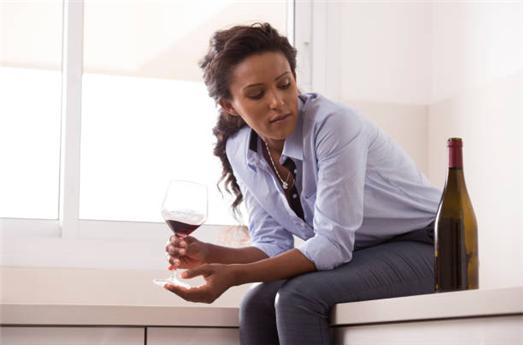alcohol: (430, 134, 482, 290), (159, 179, 209, 264)
